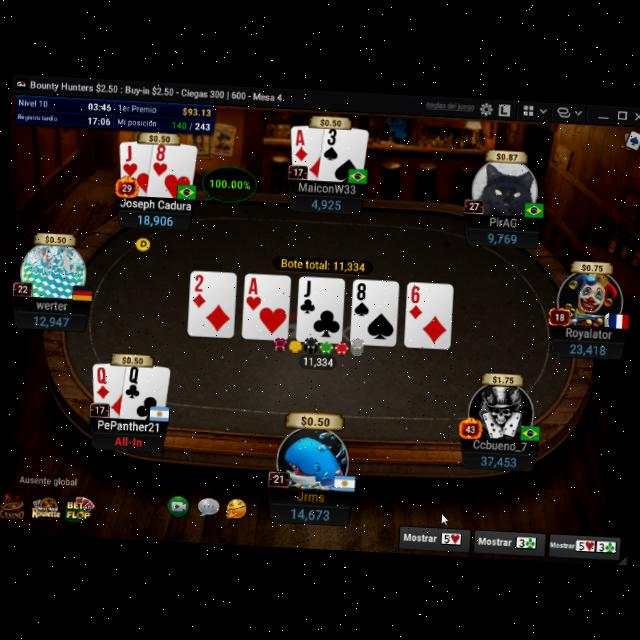2d: (190, 272, 208, 310)
3d: (322, 125, 342, 162)
3s: (322, 125, 342, 162)
6d: (407, 284, 425, 320)
8h: (151, 144, 169, 178)
8s: (352, 280, 372, 318)
Ad: (293, 128, 311, 162)
Ah: (245, 275, 264, 312)
Jc: (299, 278, 319, 316)
Jh: (122, 143, 140, 179)
Qc: (124, 364, 144, 400)
Qd: (94, 364, 113, 402)
all_in_symbol: (113, 434, 144, 448)
bet_text: (302, 354, 334, 368)
dealer: (134, 235, 152, 252)
pot_text: (280, 255, 368, 272)
stack_text: (288, 505, 332, 524), (136, 210, 174, 228), (33, 312, 70, 330), (568, 340, 608, 356), (478, 452, 518, 468), (311, 195, 344, 212), (486, 230, 518, 247)
